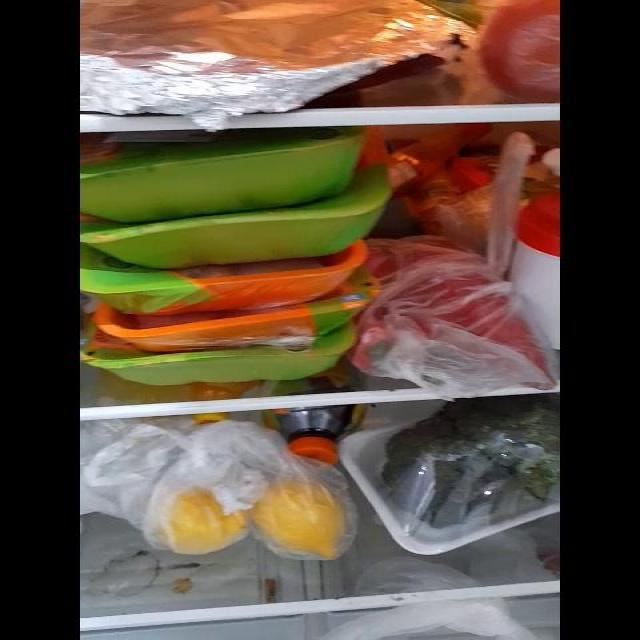broccoli: (381, 400, 559, 530)
chicken: (88, 145, 359, 370)
lemon: (259, 487, 356, 562), (152, 482, 243, 552)
